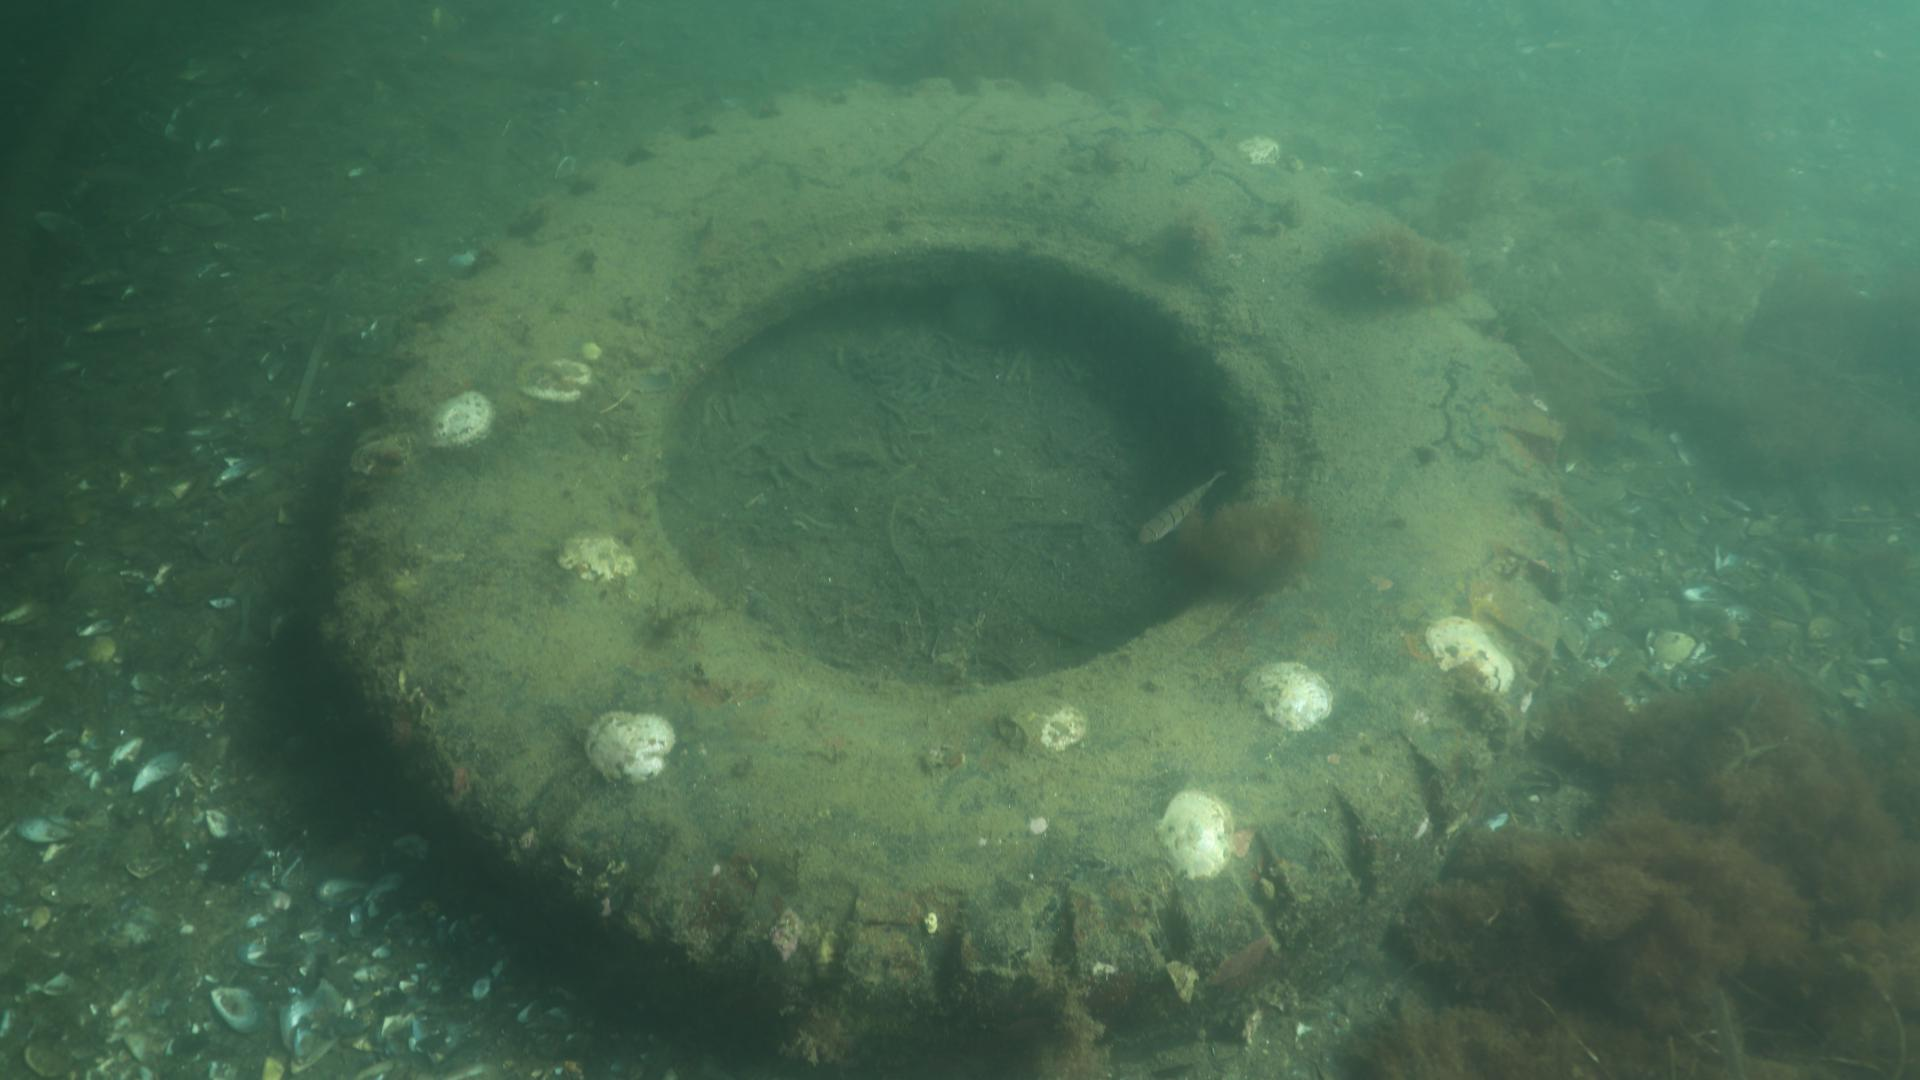tire: (330, 78, 1576, 1064)
